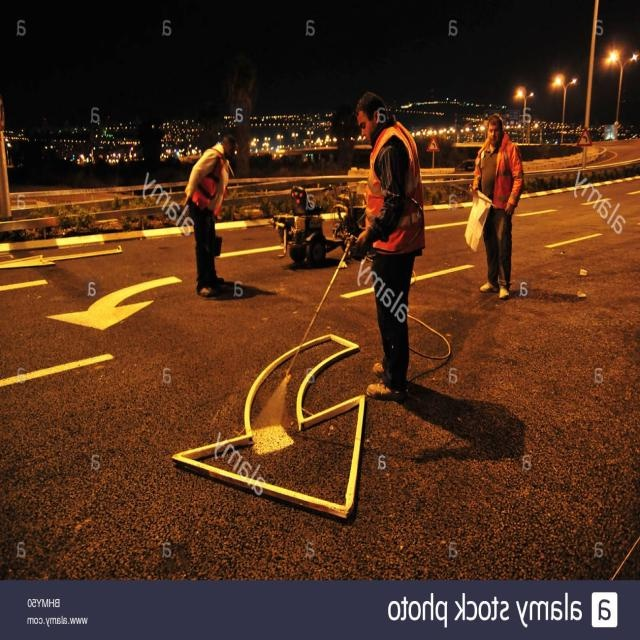Con_Chaleco: (362, 129, 427, 249), (474, 144, 520, 217)
Sin_Casco_Mascarrilla: (485, 113, 507, 145)
